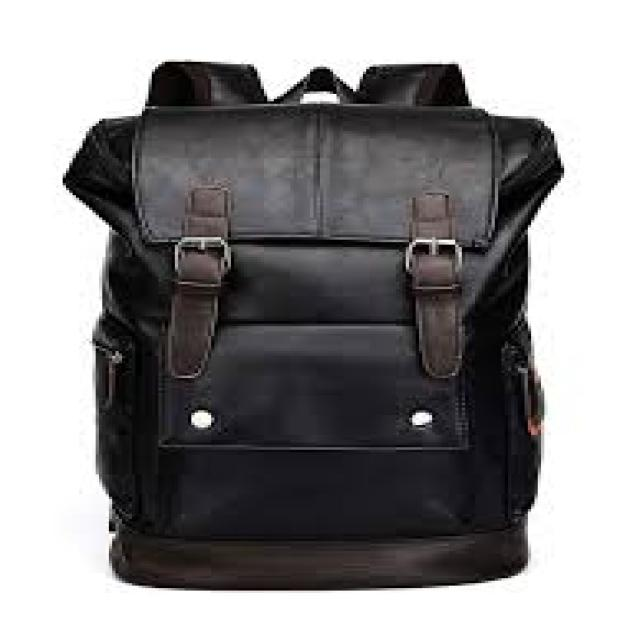backpack: (61, 60, 565, 592)
